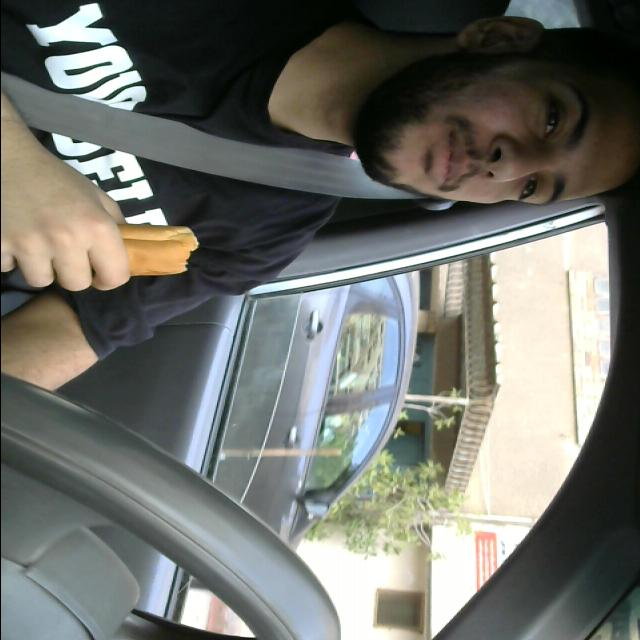eating: (21, 220, 199, 288)
